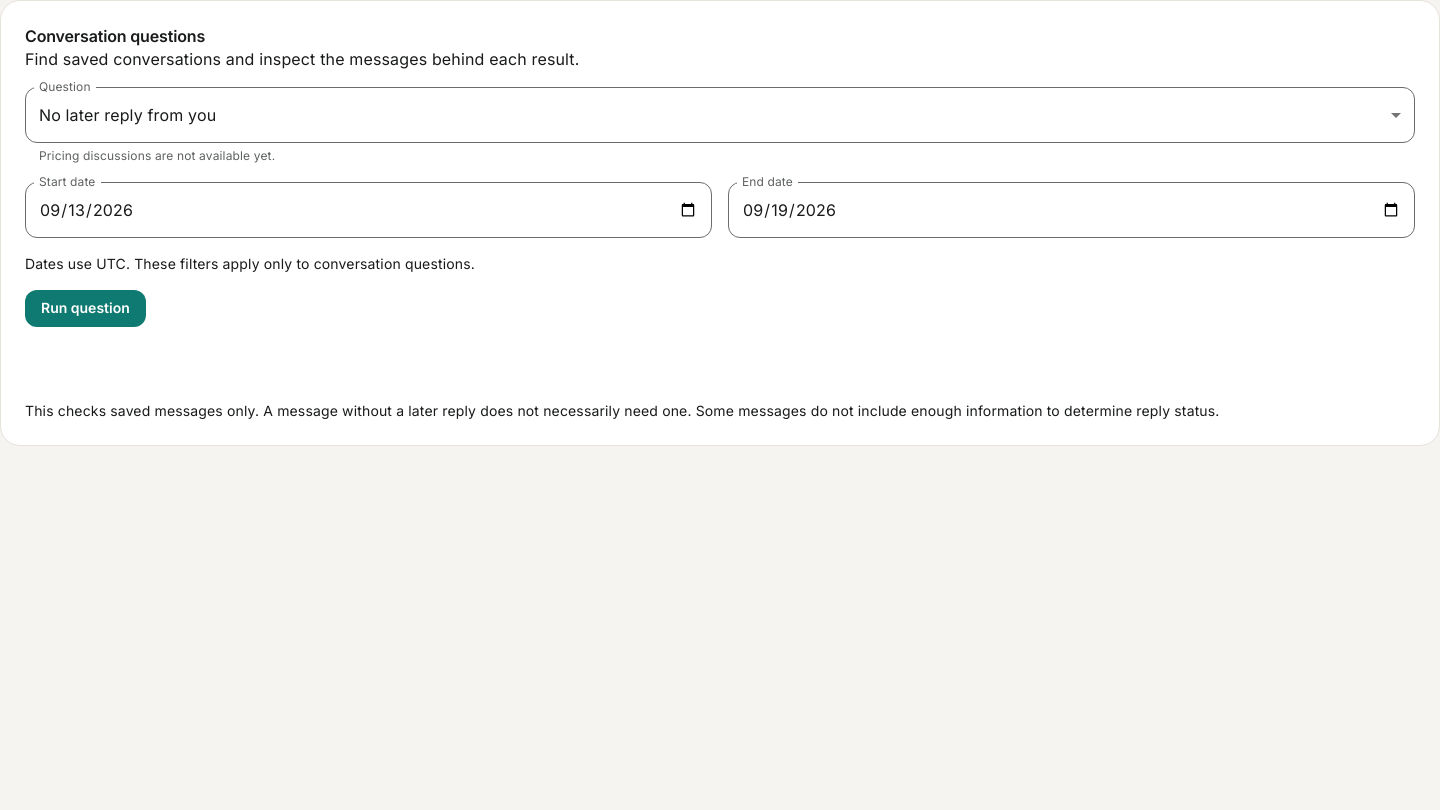
Test: Conversation questions › shows an honest empty state when no conversations match
Click the button "Run question" at (85, 309), box [25, 290, 146, 327]
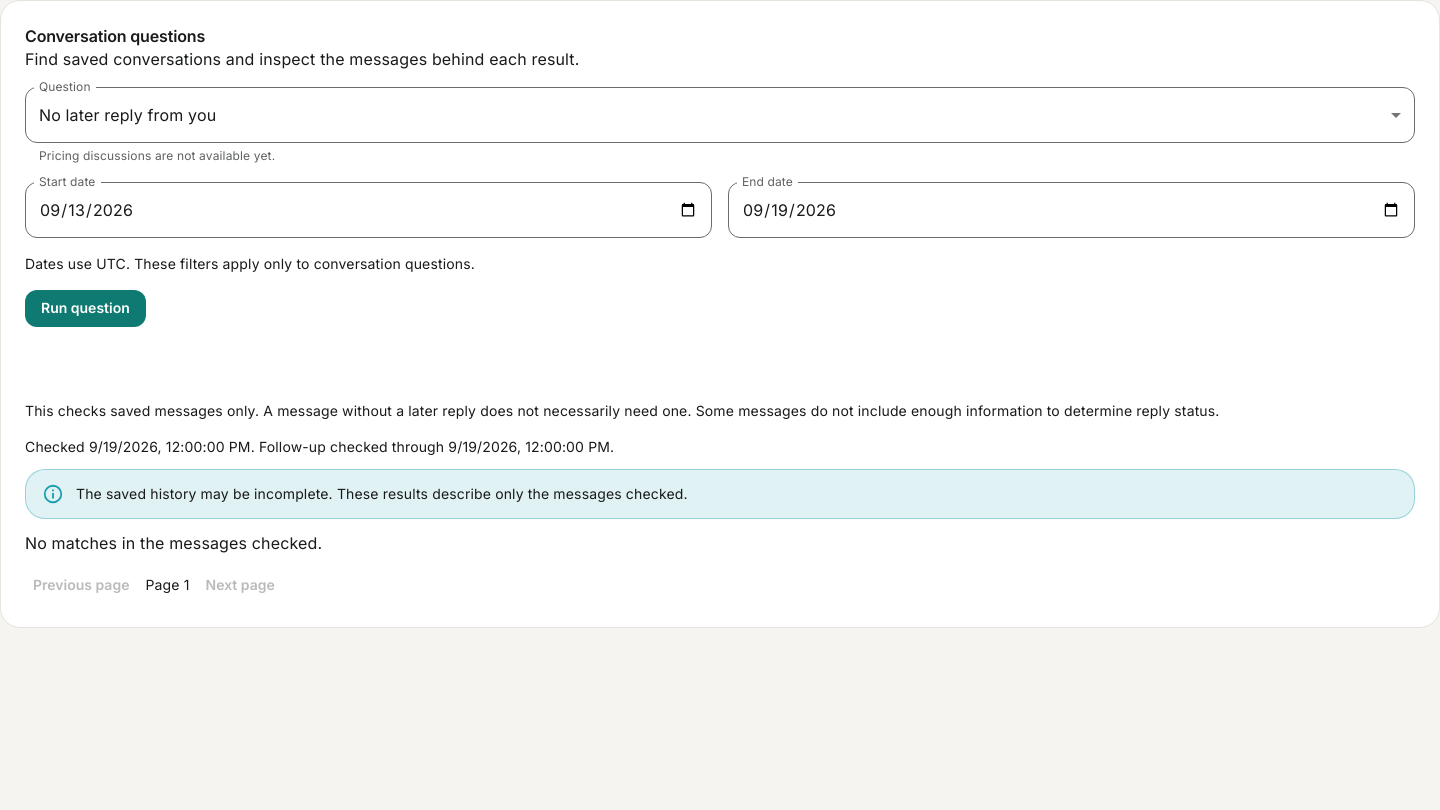
Now the text "Checked " is shown, box [25, 438, 89, 455]
Now the text "No matches in the messages checked." is shown, box [25, 533, 322, 553]
